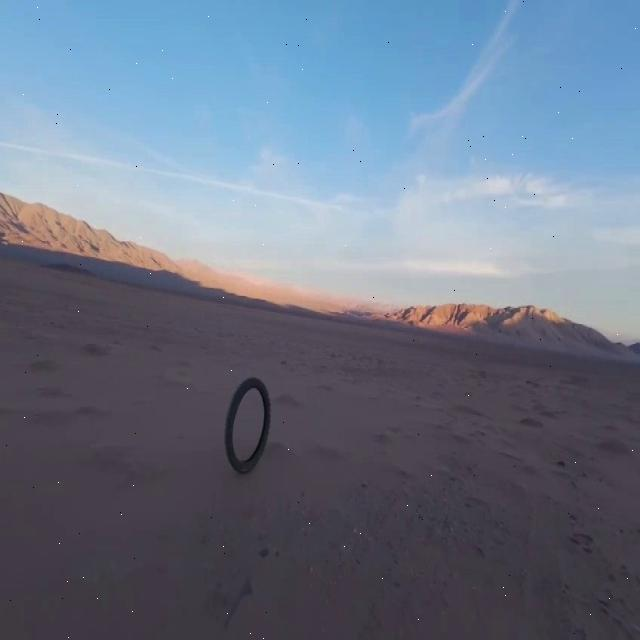Tire: (225, 378, 270, 473)
